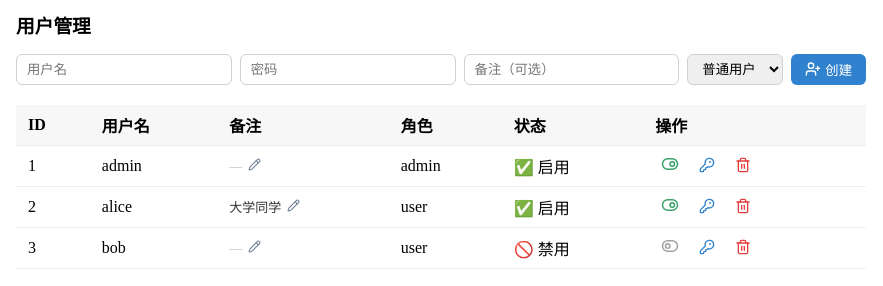
AdminUsers note feature › cancels edit on cancel click
expect the text "大学同学" is shown: met, box [229,197,281,216]
Step 1. Click the button titled "编辑备注" next to "大学同学" → (294, 207), box [285,197,302,217]
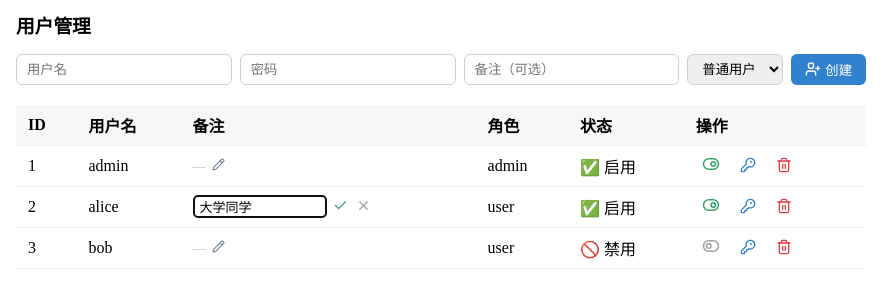
expect the field showing "大学同学" is shown: met, box [192,195,326,218]
Step 2. Click the button titled "取消" → (363, 207), box [354,196,372,218]
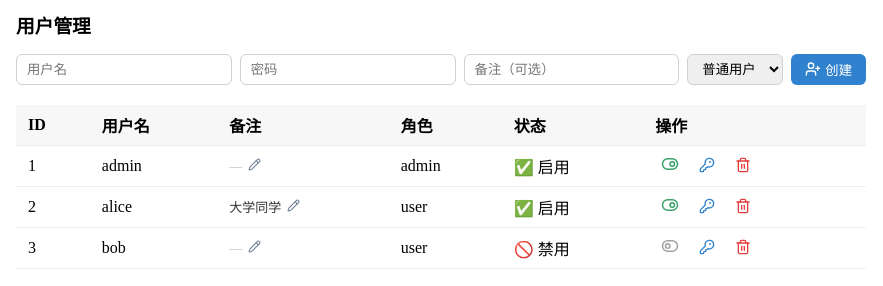
expect the text "大学同学" is shown: met, box [229,197,281,216]
